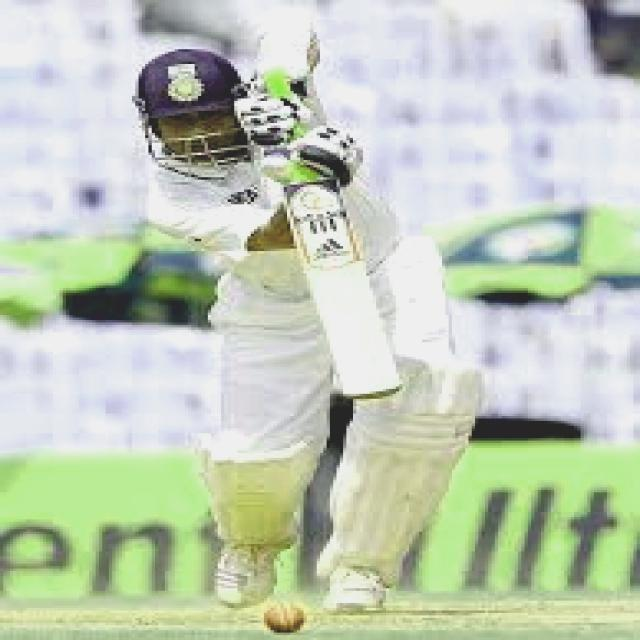bat: (290, 169, 412, 410)
toe: (336, 387, 404, 404)
